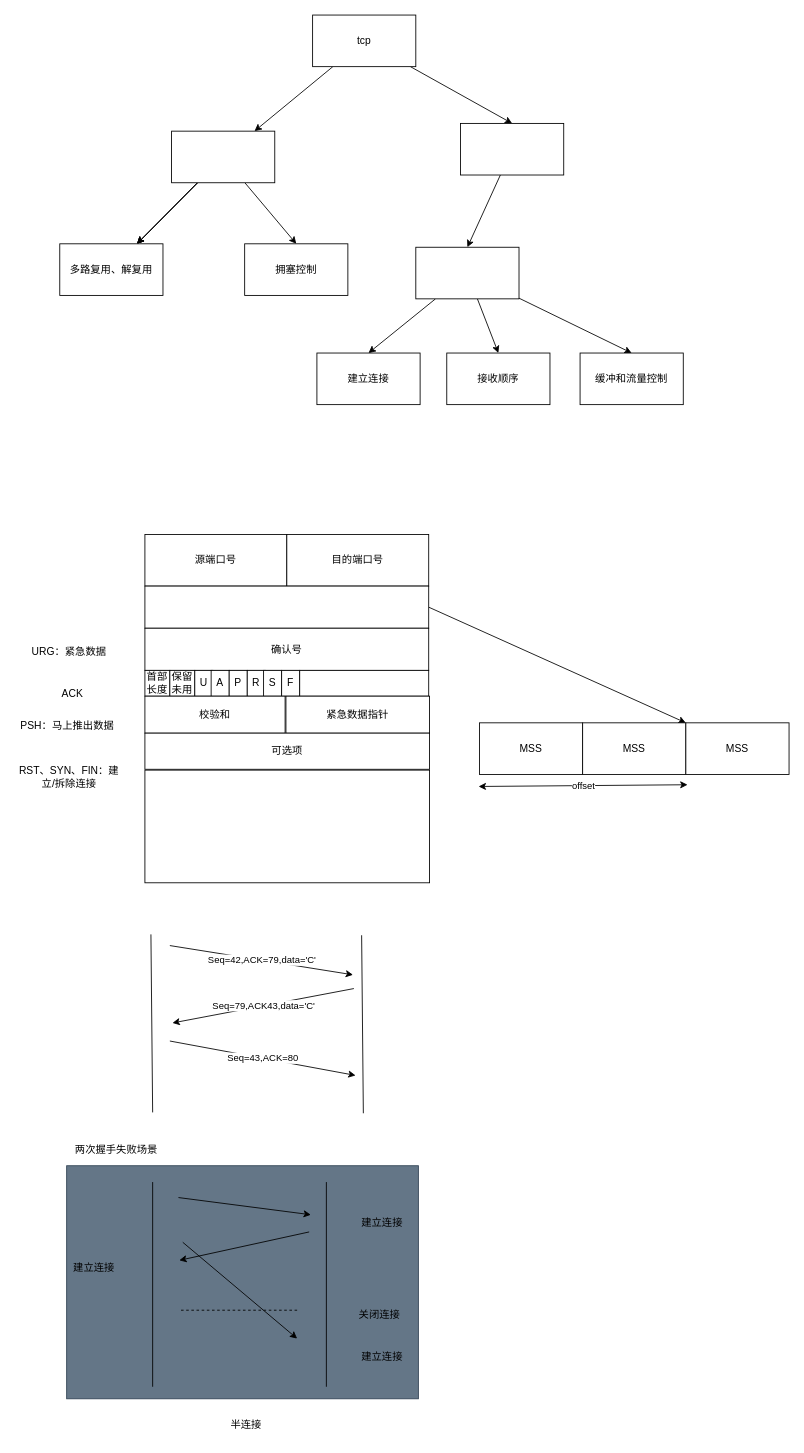
Image size: 804x1453. Some labels were removed from this diagram. Here are the shapes that lost their labels. From the top down, the centre of each, then its label:
At pixel 223 156: "功能".
At pixel 512 149: "传输协议".
At pixel 467 272: "要素".
At pixel 286 606: "序号".
At pixel 364 683: "接收窗口".
At pixel 287 826: "应用层数据".
